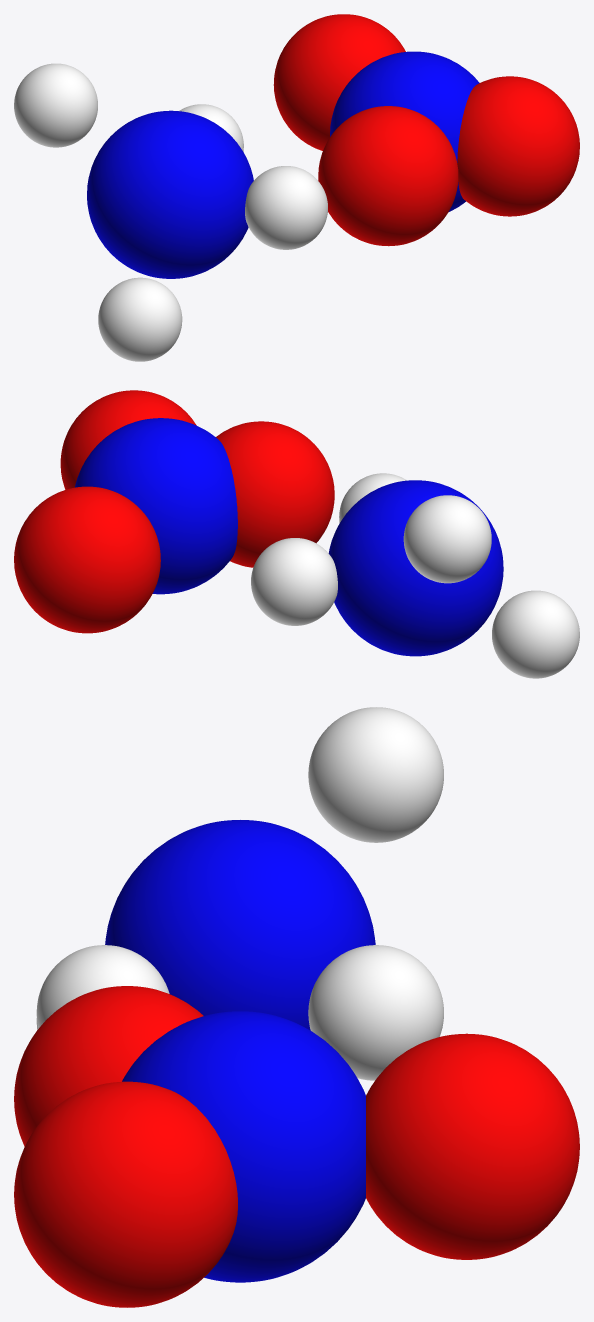
The picture shows the model from 3 angles, top to bottom: view 1: azimuth 30°, elevation 25°; view 2: azimuth 150°, elevation 25°; view 3: azimuth 270°, elevation 25°; orthographic projection. The views are drawn at different scales.
Parts seen in each view (by area): view 1: N_amm, O3, O2, O1, N_nit, H_2, H_3, H_1, H_0; view 2: N_amm, N_nit, O1, O3, H_2, H_3, H_0, O2, H_1; view 3: O2, O1, N_nit, N_amm, H_2, O3, H_0, H_1.
Part boxes in pixels (left/top/right/bottom): N_amm: left=87, top=110, right=253, bottom=278; O3: left=318, top=106, right=458, bottom=246; O2: left=457, top=76, right=579, bottom=216; O1: left=273, top=14, right=405, bottom=150; N_nit: left=330, top=51, right=479, bottom=211; H_2: left=14, top=63, right=97, bottom=147; H_3: left=98, top=277, right=182, bottom=361; H_1: left=245, top=166, right=327, bottom=249; H_0: left=179, top=104, right=243, bottom=151; N_amm: left=328, top=480, right=503, bottom=656; N_nit: left=75, top=418, right=237, bottom=594; O1: left=14, top=486, right=160, bottom=633; O3: left=216, top=421, right=334, bottom=567; H_2: left=403, top=495, right=491, bottom=583; H_3: left=492, top=590, right=579, bottom=678; H_0: left=251, top=538, right=337, bottom=625; O2: left=60, top=390, right=196, bottom=489; H_1: left=339, top=473, right=406, bottom=522; O2: left=14, top=1081, right=237, bottom=1307; O1: left=366, top=1033, right=579, bottom=1259; N_nit: left=122, top=1011, right=365, bottom=1282; N_amm: left=105, top=820, right=375, bottom=1030; H_2: left=308, top=707, right=443, bottom=842; O3: left=14, top=986, right=203, bottom=1146; H_0: left=308, top=945, right=443, bottom=1080; H_1: left=36, top=945, right=169, bottom=1028.
Size of the model in its own units: 3.9 by 1.8 by 2.5.
